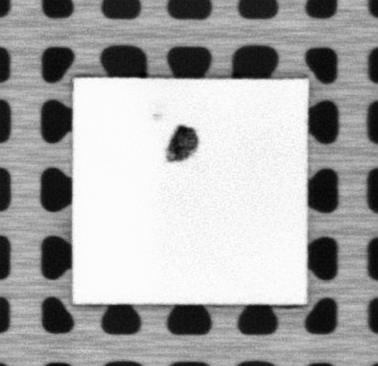DIE_INK: (164, 123, 199, 164)
